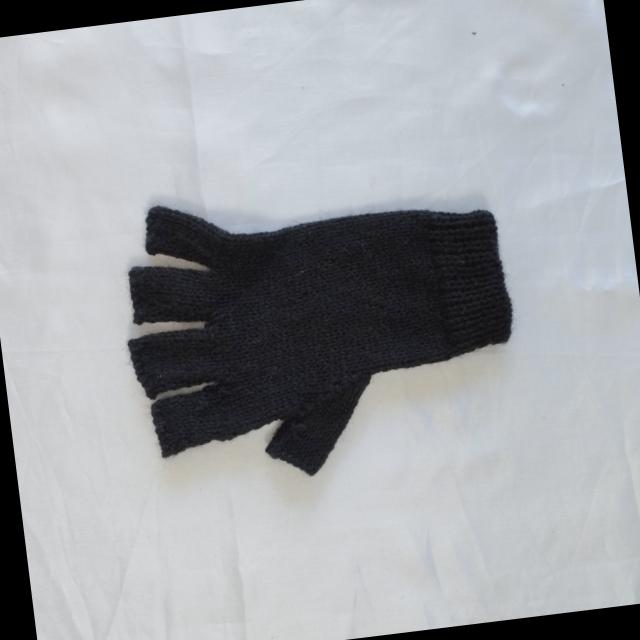Guante: (110, 162, 530, 498)
